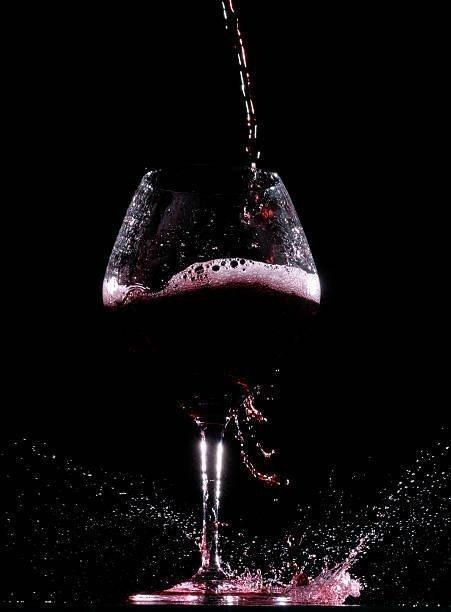glass-wine: (101, 159, 325, 602)
